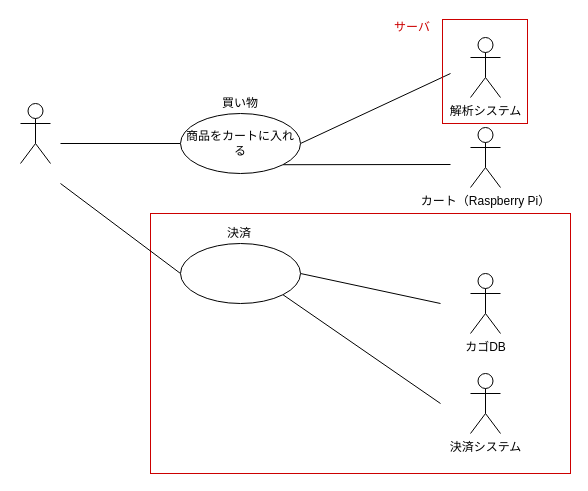
Some shapes in this 588 by 491 pixel diagram are drawn without their labels. The shapes that lost their labels are listed below. From the top down, each one's centre as x and y in pixels, then its label:
At [35,133]: "お客様".
At [240,273]: "カートを返す".
